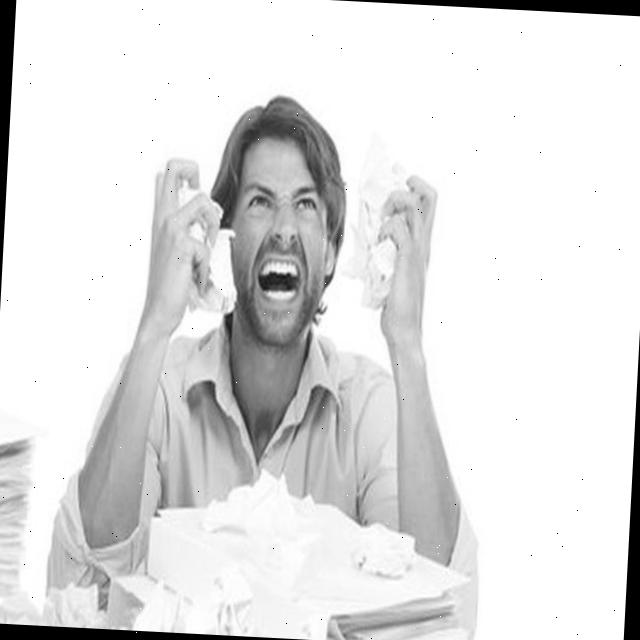Angry: (223, 137, 333, 349)
